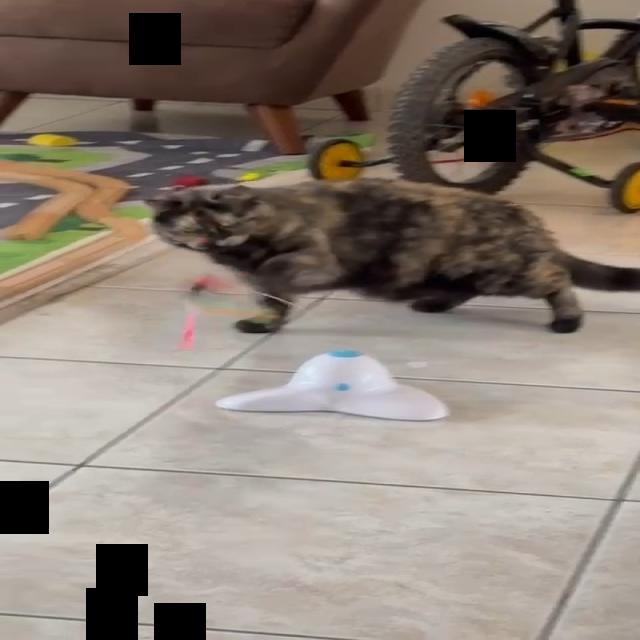authorized: (142, 176, 638, 334)
